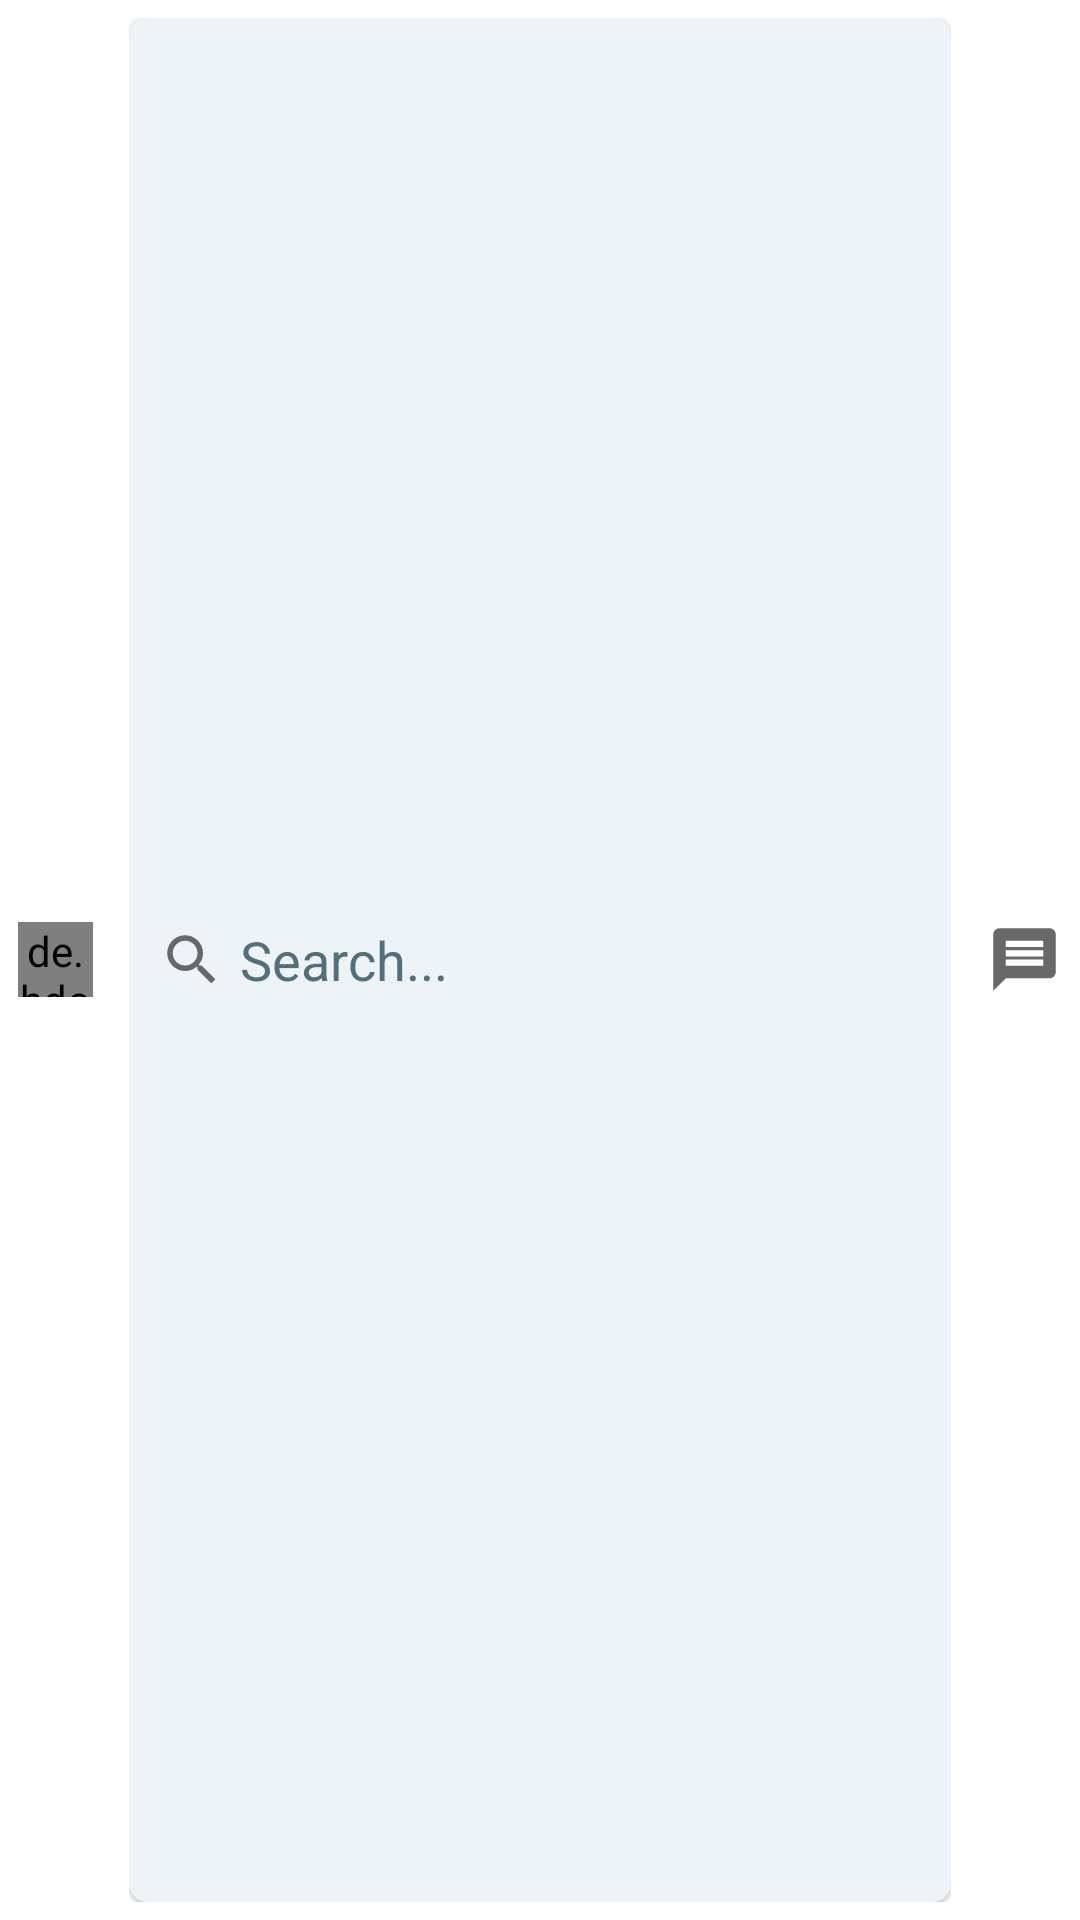

Icon bounding boxes for this 1080x1920 phone screenshot, format [left=x1, top=y1, right=x2, bottom=y2]:
message: [left=993, top=928, right=1056, bottom=991]
